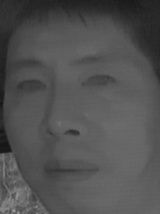eye: (80, 70, 118, 95), (15, 76, 49, 96)
mouth: (39, 155, 100, 186)
